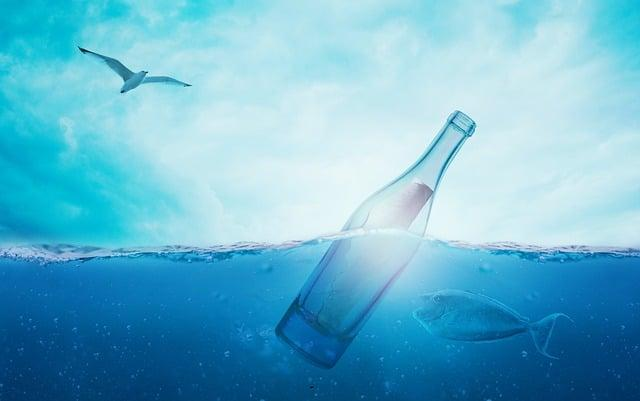bird: (78, 47, 191, 92)
